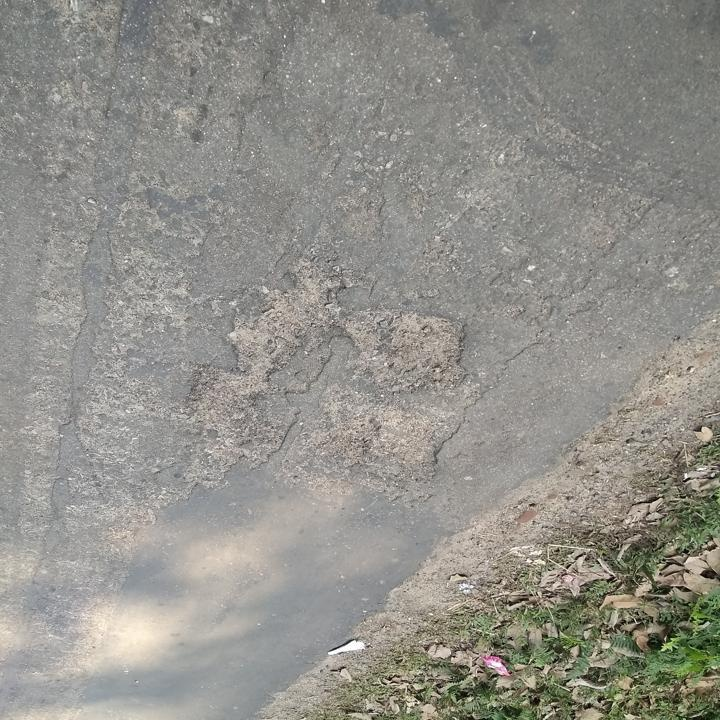pothole: (173, 253, 488, 496)
